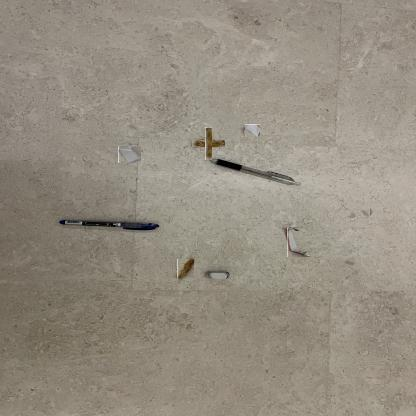dirty: (287, 227, 312, 257), (118, 145, 141, 163), (199, 133, 218, 154), (177, 259, 194, 279), (244, 124, 260, 137)
